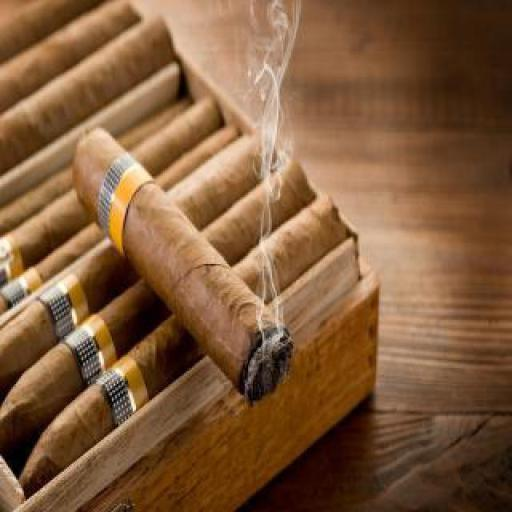smoke: (229, 5, 306, 357)
